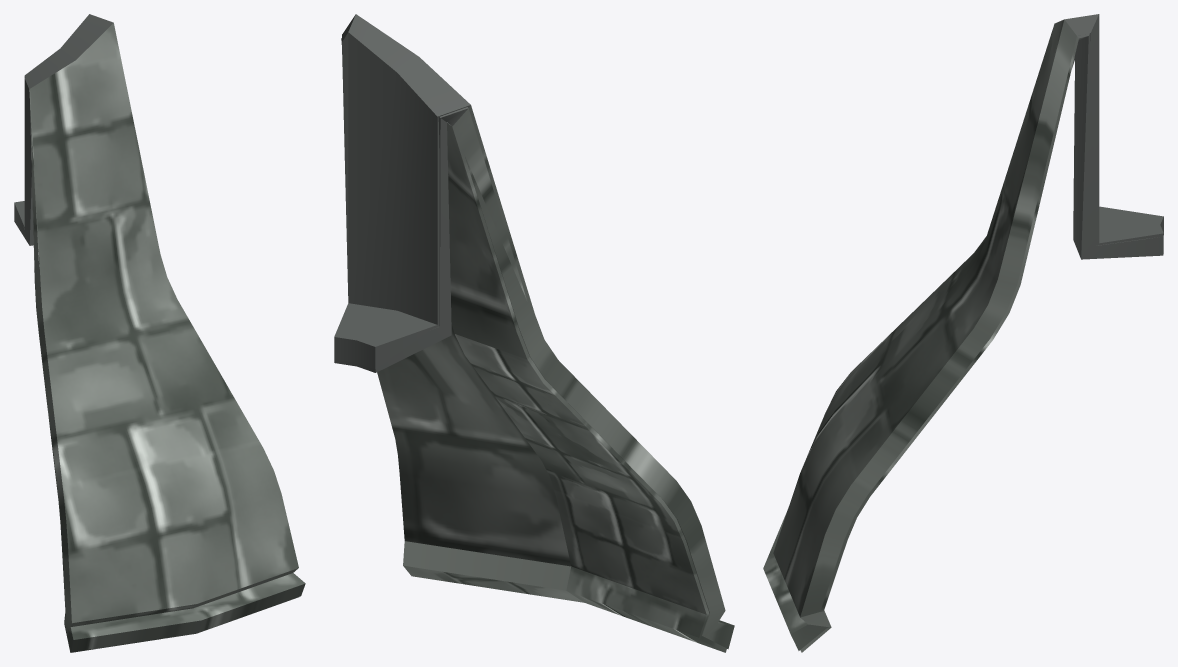
The model's file is SM_Env_Roof_14.fbx.
3 renders of one model, left to right at view 1: azimuth 30°, elevation 25°; view 2: azimuth 150°, elevation 25°; view 3: azimuth 270°, elevation 25°, orthographic. The views are drawn at different scales.
Visible parts, largest first — view 1: SM_Env_Roof_14; view 2: SM_Env_Roof_14; view 3: SM_Env_Roof_14.
Part boxes in pixels (left/top/right/bottom): SM_Env_Roof_14: left=14, top=14, right=305, bottom=652; SM_Env_Roof_14: left=334, top=14, right=734, bottom=652; SM_Env_Roof_14: left=763, top=14, right=1163, bottom=652.
Bounding box in the file's own units: 40.36 × 84.64 × 51.86.
Materials: 1 (1 with a texture image).
